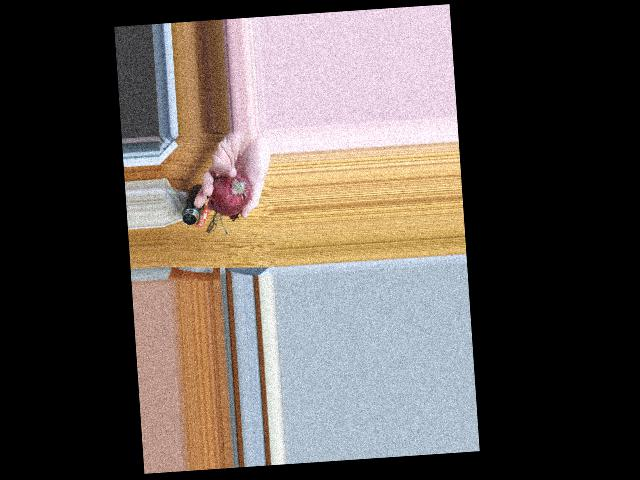onion: (210, 171, 250, 216)
